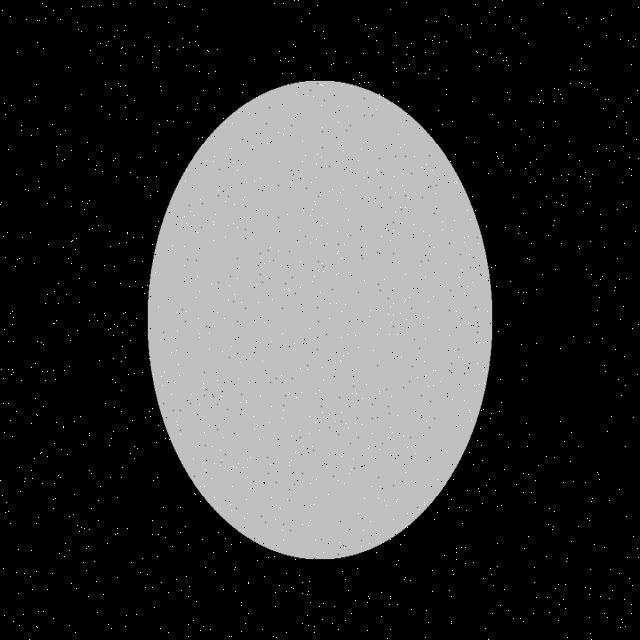Circle: (139, 72, 507, 570)
